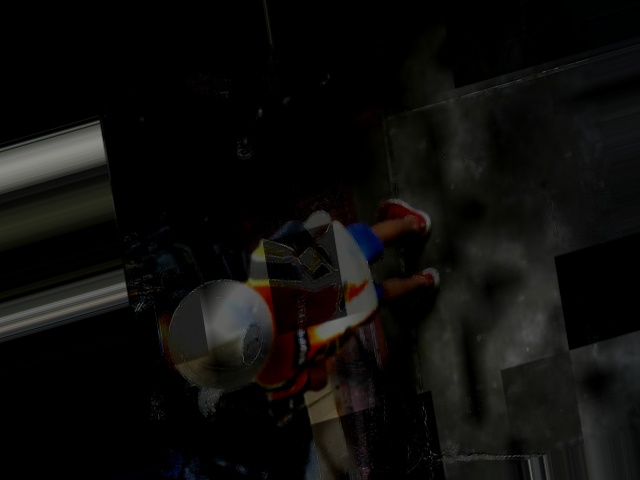one: (237, 320, 264, 364)
